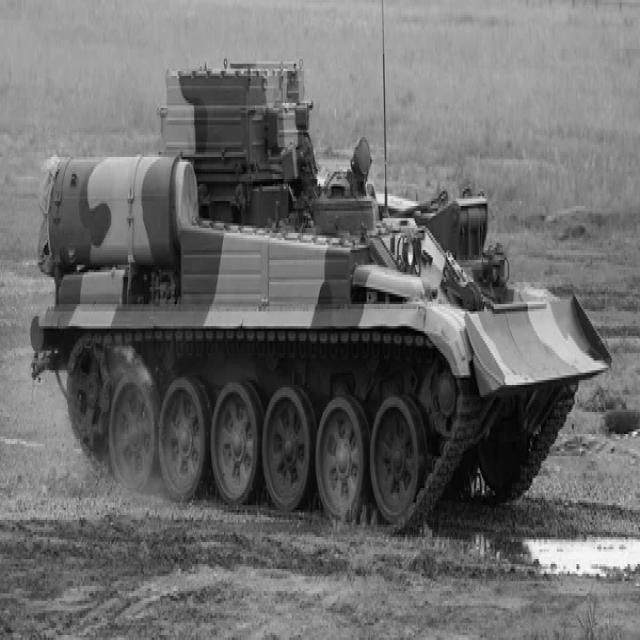Tank: (33, 44, 616, 526)
